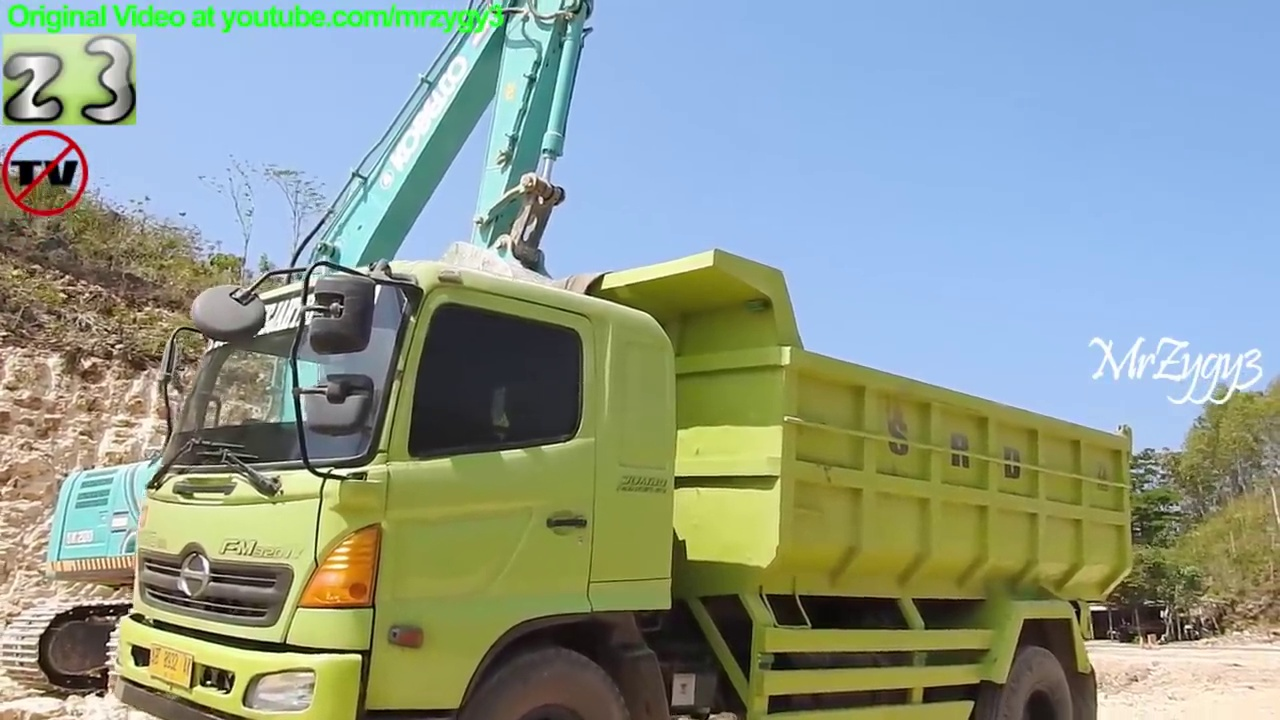excavator: (1, 4, 602, 709)
truck: (107, 240, 1144, 720)
